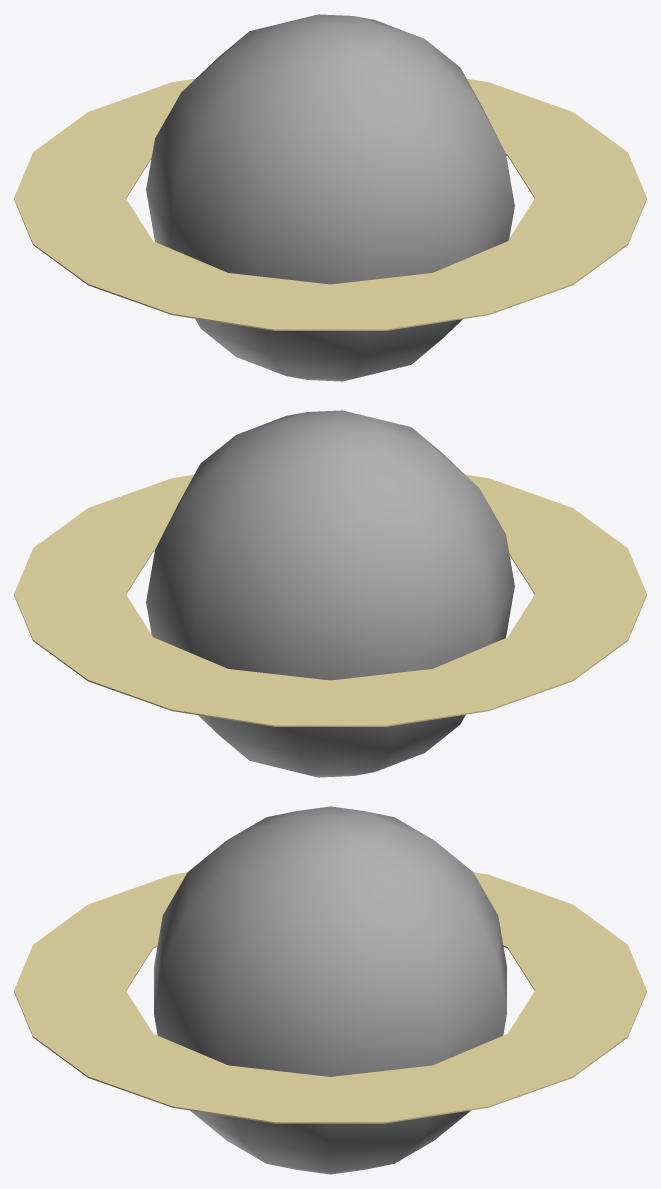
Rendered from Saturno2.fbx.
3 renders of one model, top to bottom at view 1: azimuth 30°, elevation 25°; view 2: azimuth 150°, elevation 25°; view 3: azimuth 270°, elevation 25°, orthographic.
Parts seen in each view (by area): view 1: Esfera, Anillo; view 2: Esfera, Anillo; view 3: Esfera, Anillo.
Part boxes in pixels (box(x1,y1,x2,y2)): Esfera: box(146, 14, 514, 381); Anillo: box(14, 78, 646, 330); Esfera: box(146, 410, 514, 777); Anillo: box(14, 474, 646, 726); Esfera: box(154, 806, 506, 1174); Anillo: box(14, 872, 646, 1123).
Bounding box in the file's own units: 302 × 180 × 307.
